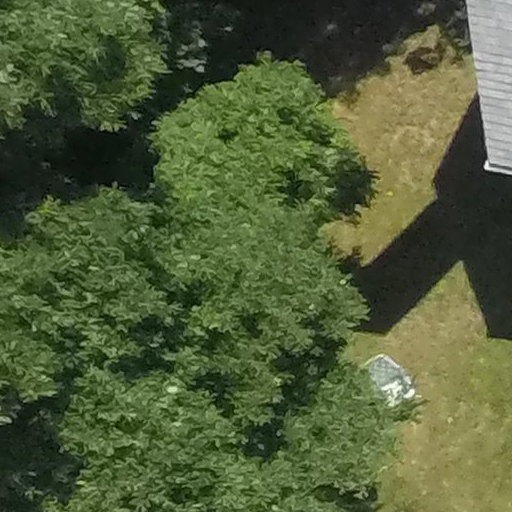chair: (354, 341, 425, 416)
